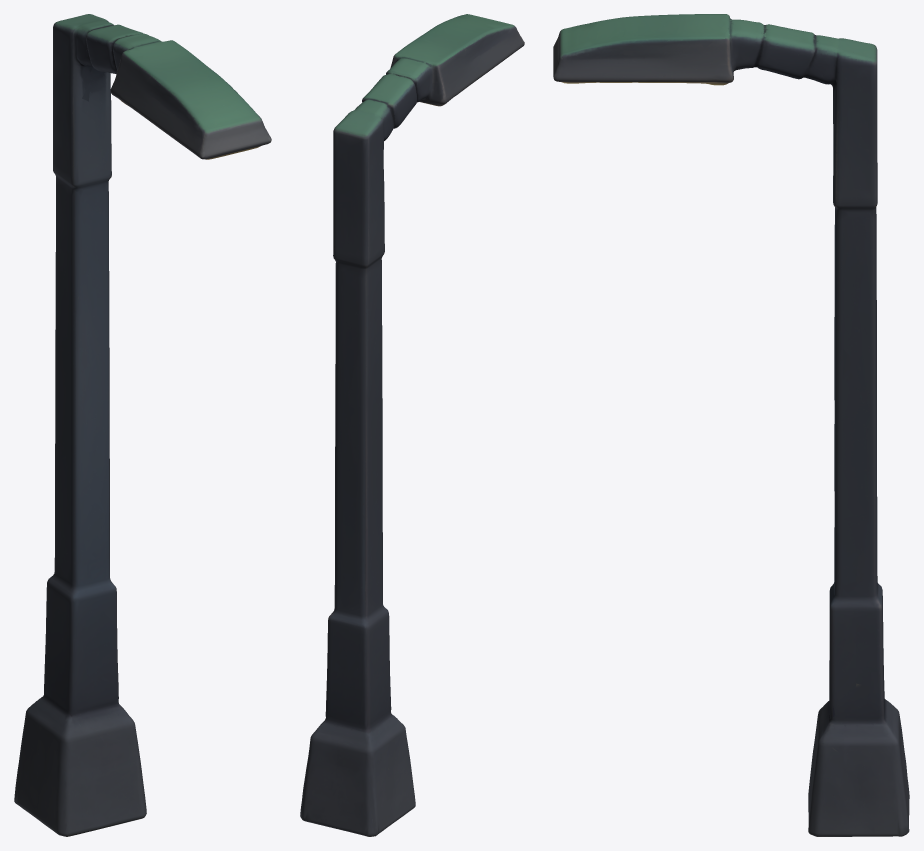
The model's file is streetlight_lod.glb.
The picture shows the model from 3 angles, left to right: view 1: azimuth 30°, elevation 25°; view 2: azimuth 150°, elevation 25°; view 3: azimuth 270°, elevation 25°; orthographic projection. The views are drawn at different scales.
Visible parts, largest first — view 1: world; view 2: world; view 3: world.
Part boxes in pixels (x1,y1,x2,y2): world: (14,14,271,836); world: (300,14,524,836); world: (553,14,909,836).
Size of the model in its own units: 0.1144 by 1 by 0.408.
Materials: 1 (1 with a texture image).
